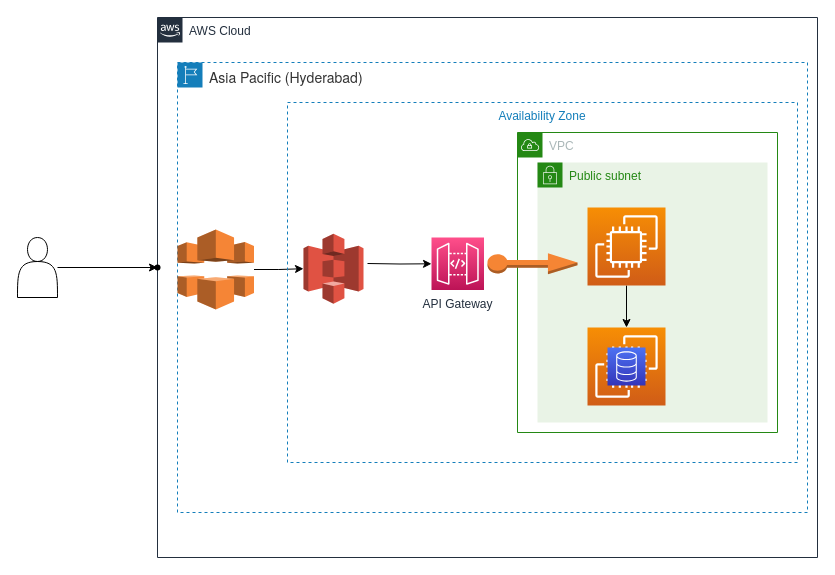
Image size: 835x575. Some labels were removed from this diagram. The shapes that lost their labels are listed below. From the top down, each one's centre as x and y in pixels, then its label:
pixel 532 263: Elastic IP
pixel 626 246: SprinBoot-API
pixel 333 268: S3
